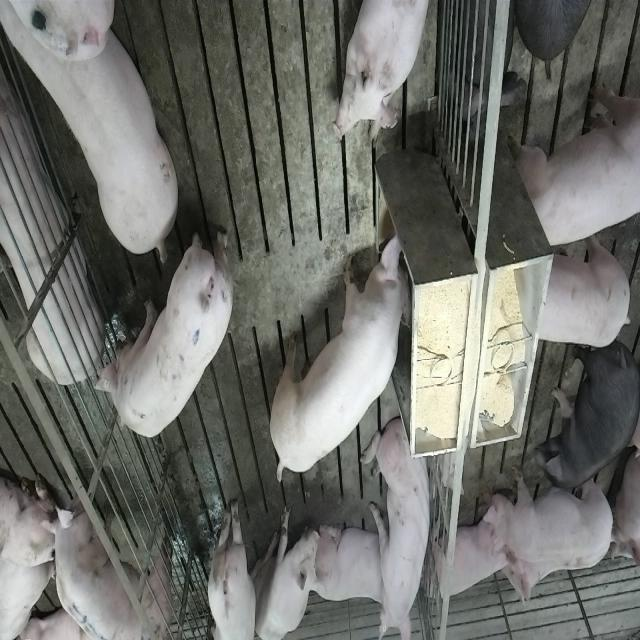Feeding: (267, 228, 413, 482)
Sitting: (361, 417, 431, 640), (253, 497, 321, 640)
Standing: (0, 0, 178, 261), (94, 226, 236, 442), (39, 497, 174, 640), (520, 93, 640, 251), (532, 338, 640, 504), (480, 460, 614, 569), (521, 230, 633, 350), (205, 494, 259, 640)
Sternal_lying: (0, 85, 104, 391), (326, 0, 432, 148), (427, 499, 511, 611), (310, 523, 396, 608), (502, 538, 562, 620)
